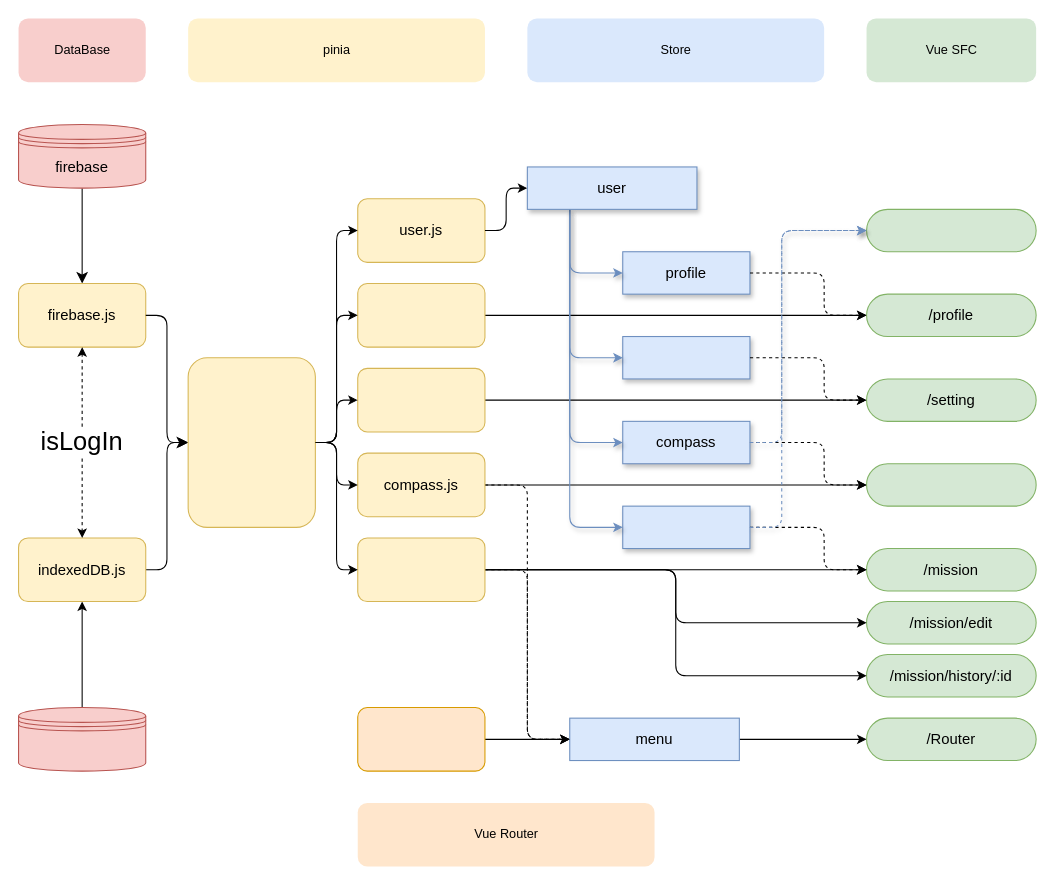
This 1055x884 diagram has some shape labels left out. The centre of each missing label's shape, as x and y in pixels:
"/compass" belongs at point 950,484.
"/home" belongs at point 950,230.
"data.js" belongs at point 251,442.
"indexedDB" belongs at point 81,738.
"mission" belongs at point 686,528.
"mission.js" belongs at point 421,569.
"profile.js" belongs at point 421,314.
"router.js" belongs at point 421,738.
"setting" belongs at point 686,358.
"setting.js" belongs at point 421,399.
